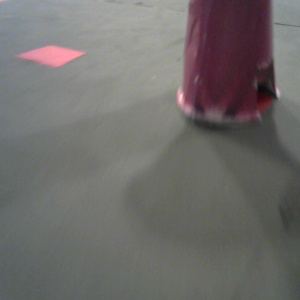right: (174, 1, 284, 130)
